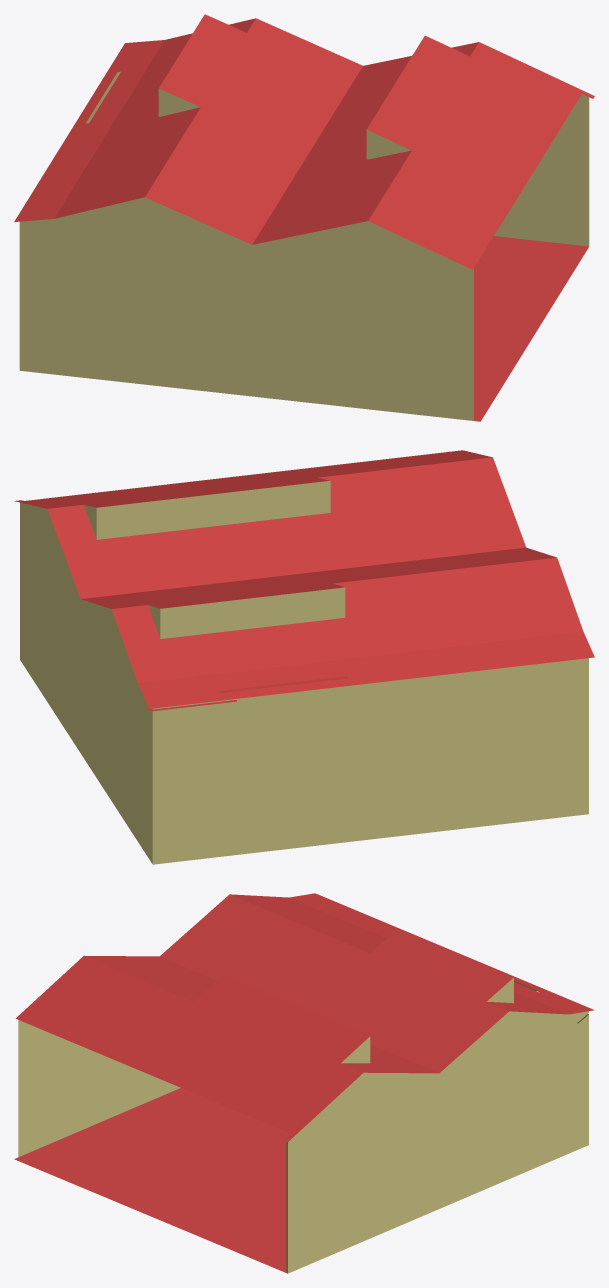
3 views of the same model, one above another, from view 1: azimuth 30°, elevation 25°; view 2: azimuth 150°, elevation 25°; view 3: azimuth 270°, elevation 25° (orthographic). The views are drawn at different scales.
Bounding box in the file's own units: 35.33 × 34.96 × 12.32.
